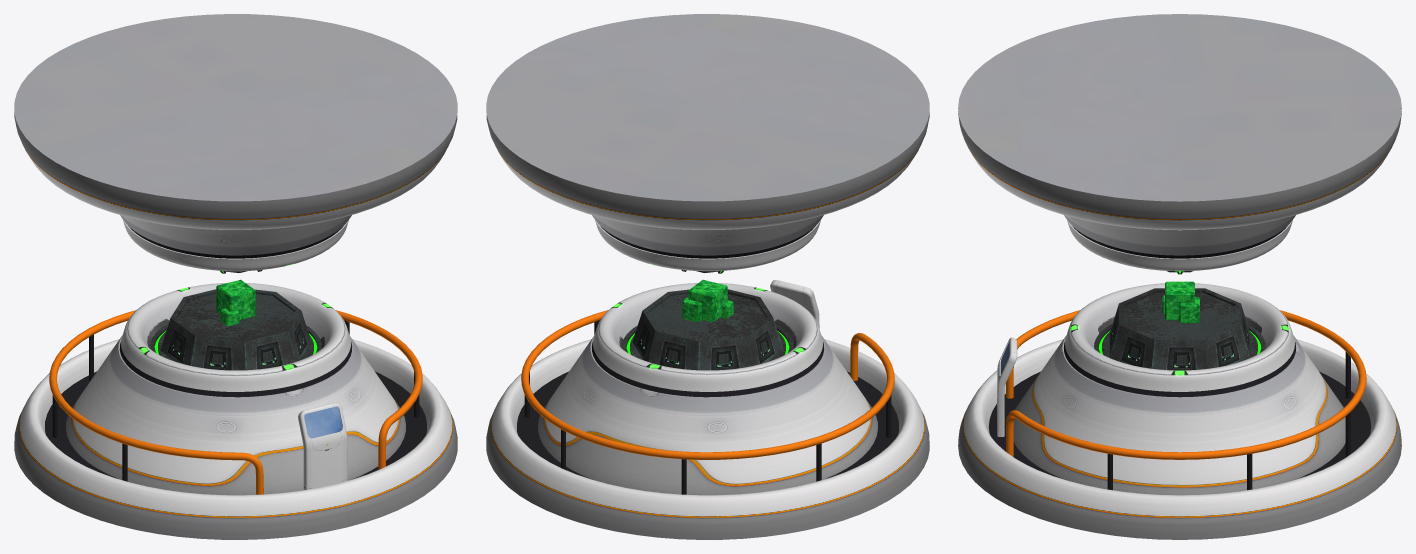
Rendered from IonFissionReactor.fbx.
3 renders of one model, left to right at view 1: azimuth 30°, elevation 25°; view 2: azimuth 150°, elevation 25°; view 3: azimuth 270°, elevation 25°, orthographic.
Parts seen in each view (by area): view 1: Casing, Reactor, Railings, Display, IonCube; view 2: Casing, Reactor, Railings, IonCube, Display; view 3: Casing, Reactor, Railings, IonCube, Display.
Boxes of the visible parts, x1,y1,x2,y2 form: Casing: (14, 14, 457, 539); Reactor: (160, 270, 311, 370); Railings: (49, 310, 422, 494); Display: (298, 403, 347, 489); IonCube: (216, 279, 255, 326); Casing: (486, 14, 929, 539); Reactor: (632, 270, 783, 370); Railings: (521, 310, 894, 494); IonCube: (682, 279, 733, 322); Display: (770, 280, 819, 328); Casing: (958, 14, 1401, 539); Reactor: (1109, 271, 1250, 370); Railings: (1006, 310, 1366, 490); IonCube: (1162, 281, 1199, 323); Display: (997, 337, 1017, 436).
Size of the model in its own units: 3.38 by 2.84 by 3.38.
